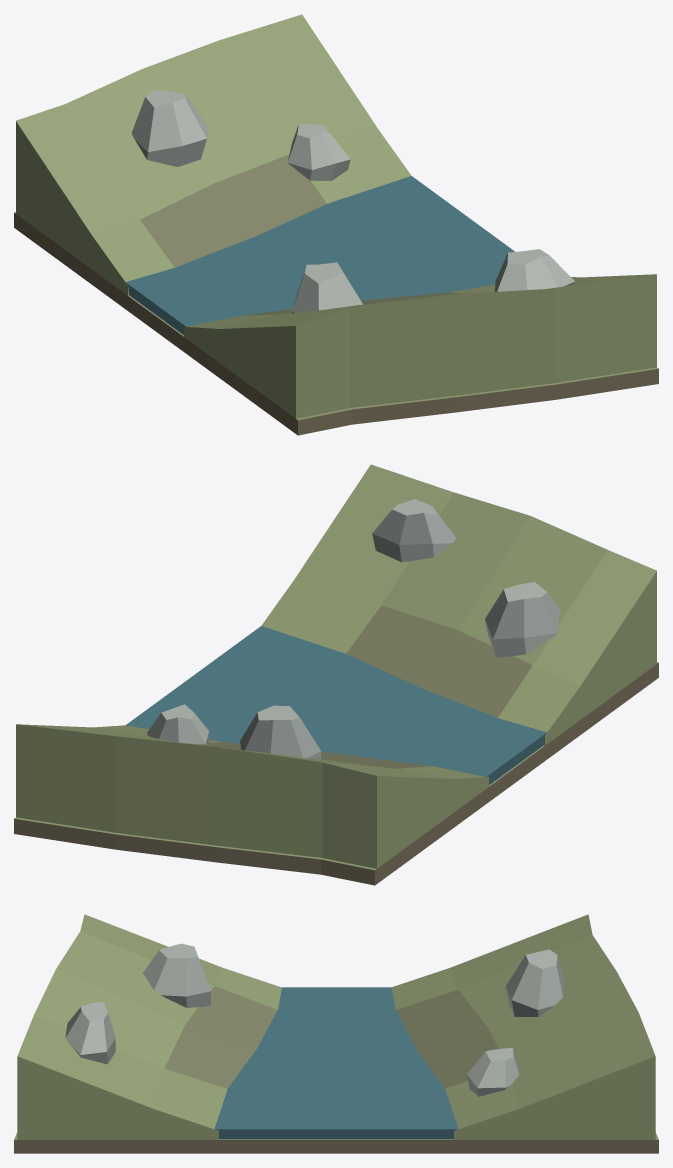
The picture shows the model from 3 angles, top to bottom: view 1: azimuth 30°, elevation 25°; view 2: azimuth 150°, elevation 25°; view 3: azimuth 270°, elevation 25°; orthographic projection. The views are drawn at different scales.
Visible parts, largest first — view 1: Bank_North, Bank_South, WaterSurface_Runtime, Bed_ContinuousGround, BankRock_03, BankRock_04, BankRock_02, BankRock_01; view 2: Bank_South, Bank_North, WaterSurface_Runtime, Bed_ContinuousGround, BankRock_01, BankRock_02, BankRock_03, BankRock_04; view 3: Bank_North, Bank_South, WaterSurface_Runtime, Bed_ContinuousGround, BankRock_01, BankRock_03, BankRock_02, BankRock_04.
Boxes of the visible parts, box(x1,y1,x2,y2) form: Bank_North: box(16, 14, 411, 295); Bank_South: box(184, 274, 656, 418); WaterSurface_Runtime: box(125, 176, 514, 334); Bed_ContinuousGround: box(14, 212, 658, 435); BankRock_03: box(131, 90, 208, 166); BankRock_04: box(288, 124, 350, 180); BankRock_02: box(494, 249, 574, 291); BankRock_01: box(292, 262, 362, 313); Bank_South: box(261, 464, 656, 745); Bank_North: box(16, 724, 488, 868); WaterSurface_Runtime: box(126, 626, 547, 784); Bed_ContinuousGround: box(14, 662, 658, 885); BankRock_01: box(485, 581, 560, 657); BankRock_02: box(372, 499, 456, 562); BankRock_03: box(240, 705, 321, 759); BankRock_04: box(147, 704, 209, 744); Bank_North: box(391, 914, 655, 1139); Bank_South: box(17, 914, 281, 1139); WaterSurface_Runtime: box(214, 987, 458, 1139); Bed_ContinuousGround: box(14, 1132, 658, 1153); BankRock_01: box(143, 943, 211, 1007); BankRock_03: box(505, 949, 564, 1016); BankRock_02: box(65, 1001, 115, 1064); BankRock_04: box(467, 1048, 519, 1096).
Size of the model in its own units: 2 by 0.7255 by 3.84.
